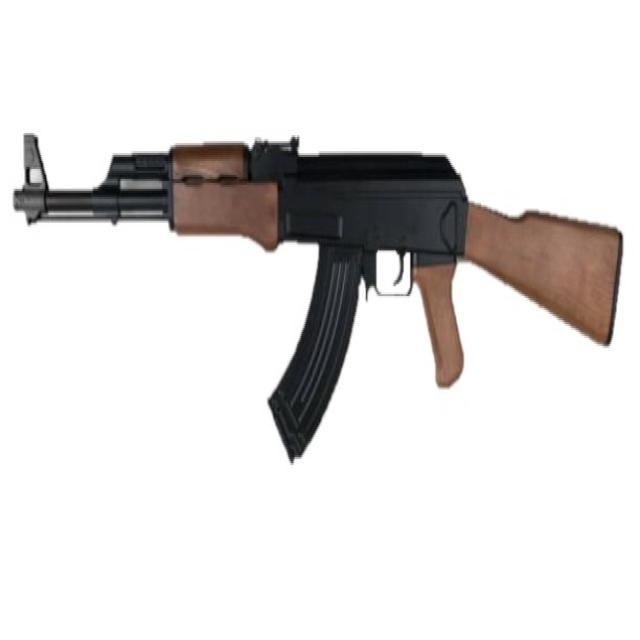rifle: (8, 120, 626, 470)
